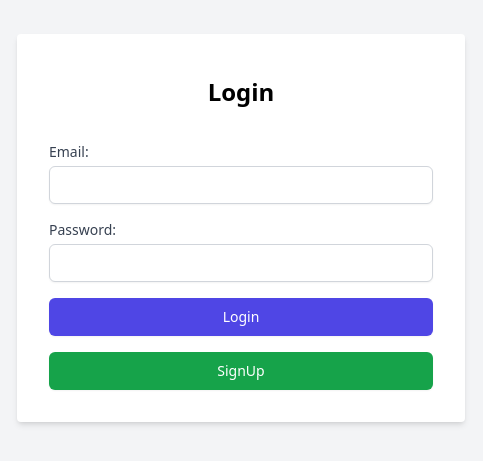
it: Login Component › displays error message when Email and Password are not entered
Click the button "Login" at {"x": 241, "y": 317}, box 49,298 -> 433,336
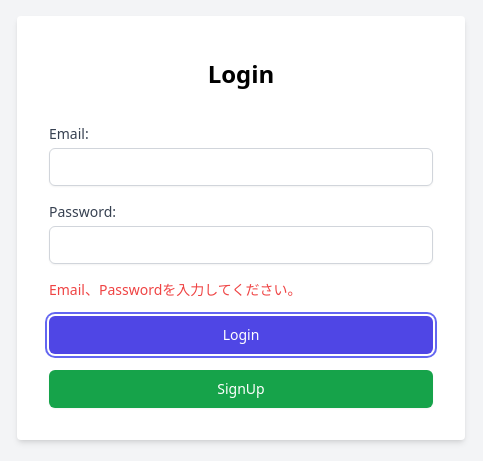
Expected: the text "Email、Passwordを入力してください。" is shown, 49,280 -> 301,299
